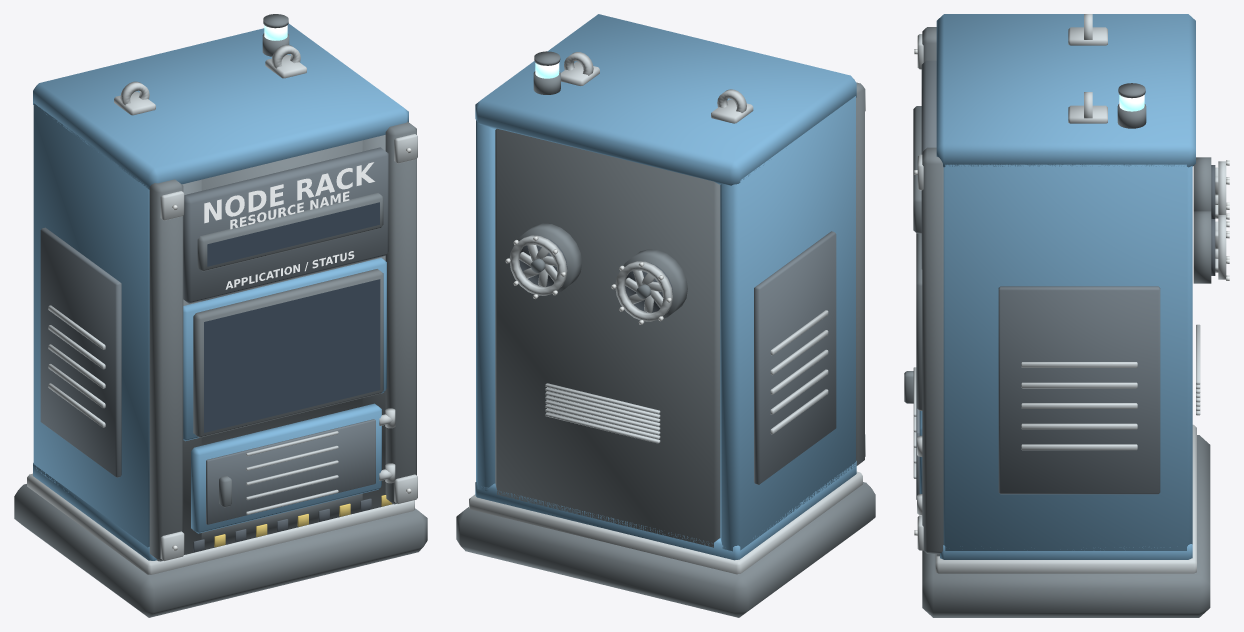
File: node_rack_standard.glb
3 renders of one model, left to right at view 1: azimuth 30°, elevation 25°; view 2: azimuth 150°, elevation 25°; view 3: azimuth 270°, elevation 25°, orthographic. The views are drawn at different scales.
Visible parts, largest first — view 1: Roof_blue, SideWall_blue, CornerPost_frame, LiveViewSurface_glass, Skid_frame, SideServicePanel_graphite, FrontHeader_graphite, DoorMoving_Inset_graphite, DoorMoving_Panel_blue, SkidDeck_steel, LiveViewSurfaceFrame_frame, ScreenSupport_blue (+16 smaller); view 2: BackWall_frame, SideWall_blue, Roof_blue, Skid_frame, SideServicePanel_graphite, SkidDeck_steel, RearFan_steel, KickPlate_blue, RearVent_steel, CornerPost_frame, RearFan_frame, SideLouver_steel (+3 smaller); view 3: SideWall_blue, Roof_blue, SideServicePanel_graphite, Skid_frame, CornerPost_frame, SkidDeck_steel, SideLouver_steel, RearFan_frame, KickPlate_blue, FrontHeader_graphite, RearFan_steel, LiftMount_steel (+7 smaller).
Part boxes in pixels (x1,y1,x2,y2): Roof_blue: [33, 23, 408, 189]; SideWall_blue: [33, 103, 149, 547]; CornerPost_frame: [149, 121, 416, 561]; LiveViewSurface_glass: [204, 279, 380, 432]; Skid_frame: [14, 484, 427, 617]; SideServicePanel_graphite: [40, 227, 121, 477]; FrontHeader_graphite: [183, 147, 388, 303]; DoorMoving_Inset_graphite: [206, 419, 375, 524]; DoorMoving_Panel_blue: [191, 403, 381, 533]; SkidDeck_steel: [27, 473, 414, 574]; LiveViewSurfaceFrame_frame: [193, 269, 383, 437]; ScreenSupport_blue: [183, 258, 386, 441]; BackWall_frame: [495, 128, 720, 547]; SideWall_blue: [476, 96, 855, 551]; Roof_blue: [475, 14, 856, 185]; Skid_frame: [456, 482, 875, 617]; SideServicePanel_graphite: [754, 231, 836, 484]; SkidDeck_steel: [469, 471, 862, 574]; RearFan_steel: [509, 235, 672, 321]; KickPlate_blue: [475, 461, 856, 560]; RearVent_steel: [545, 383, 660, 443]; CornerPost_frame: [856, 82, 864, 465]; RearFan_frame: [518, 223, 687, 319]; SideLouver_steel: [770, 310, 828, 434]; SideWall_blue: [943, 164, 1192, 550]; Roof_blue: [936, 14, 1195, 167]; SideServicePanel_graphite: [998, 286, 1160, 494]; Skid_frame: [922, 435, 1210, 617]; CornerPost_frame: [922, 27, 943, 553]; SkidDeck_steel: [935, 424, 1196, 573]; SideLouver_steel: [1021, 362, 1137, 450]; RearFan_frame: [1193, 157, 1211, 283]; KickPlate_blue: [940, 544, 1192, 559]; FrontHeader_graphite: [921, 60, 936, 269]; RearFan_steel: [1215, 161, 1226, 279]; LiftMount_steel: [1068, 27, 1107, 123].
Bounding box in the file's own units: 1.6 × 2.53 × 1.48.
